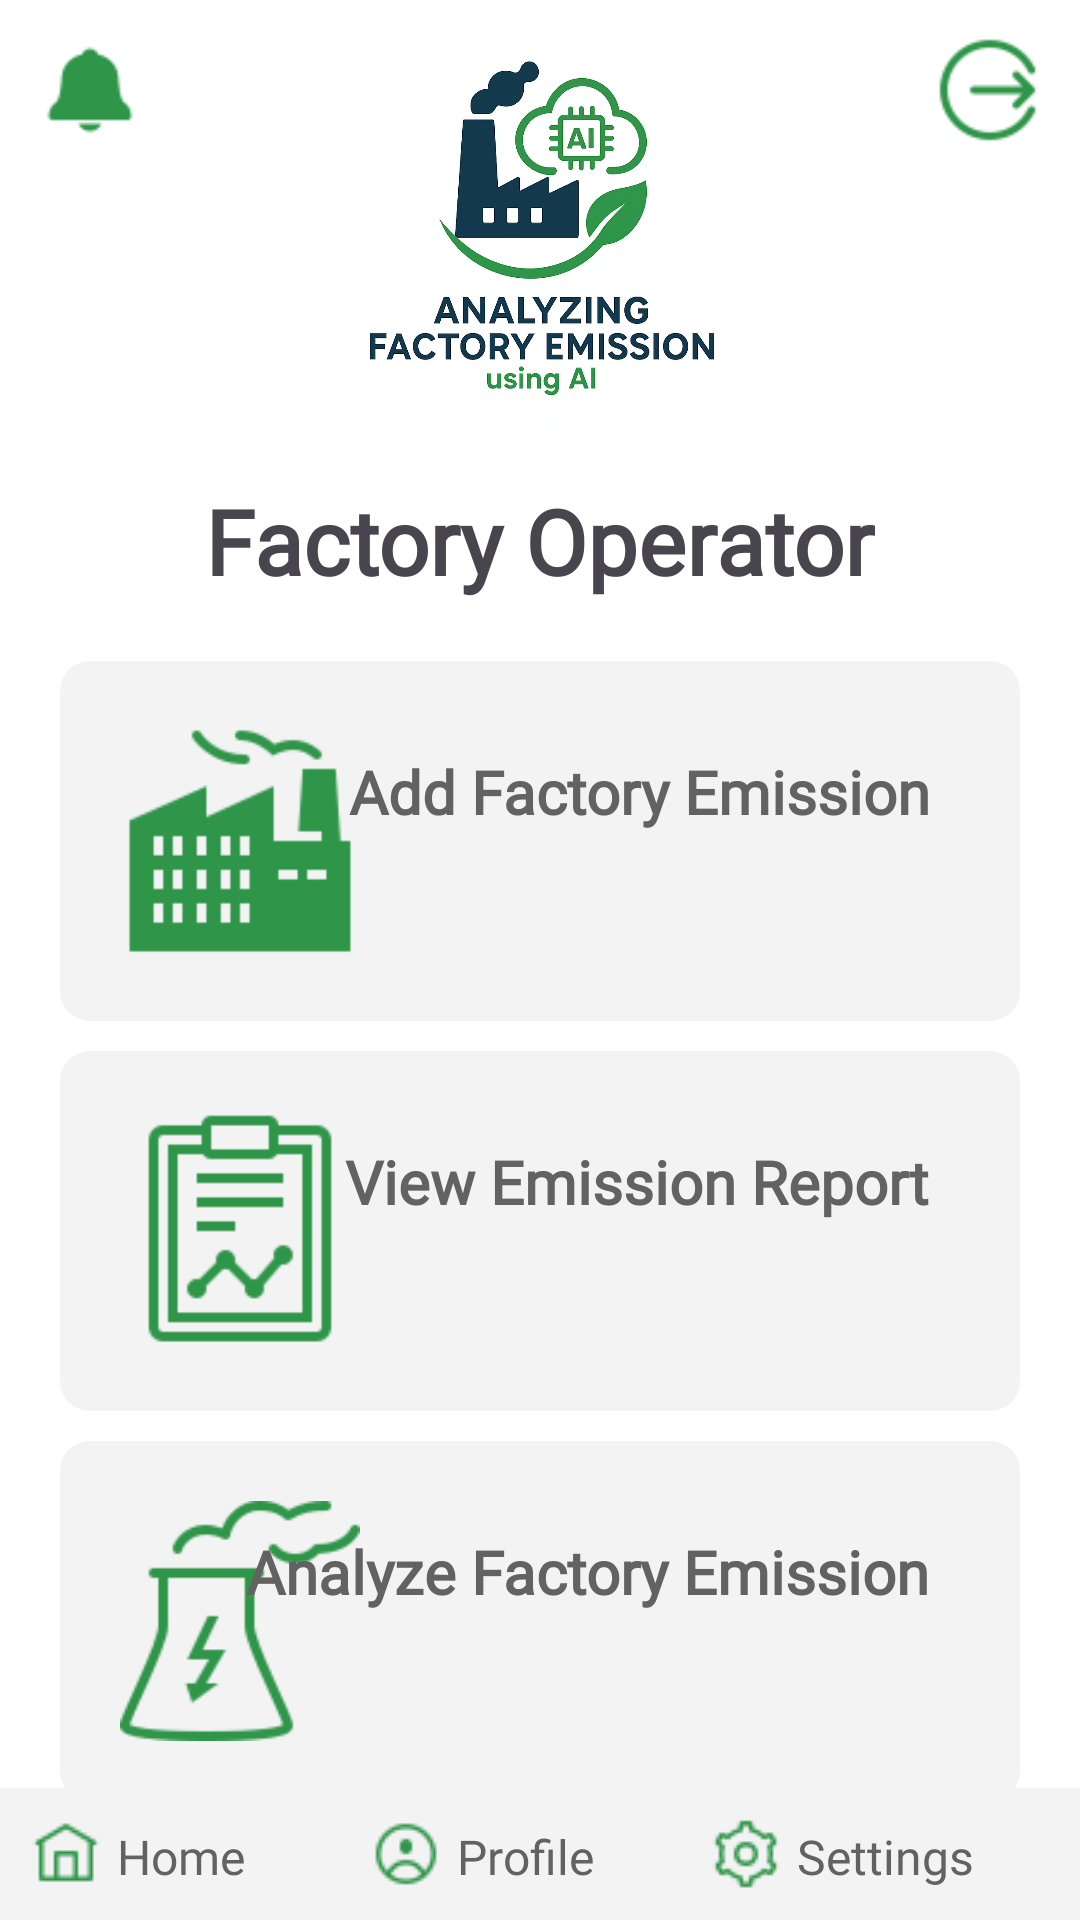

Where to tap for icons on this 1080w x 1920h app screen, as (x=x, y=y):
notification: (x=90, y=90)
